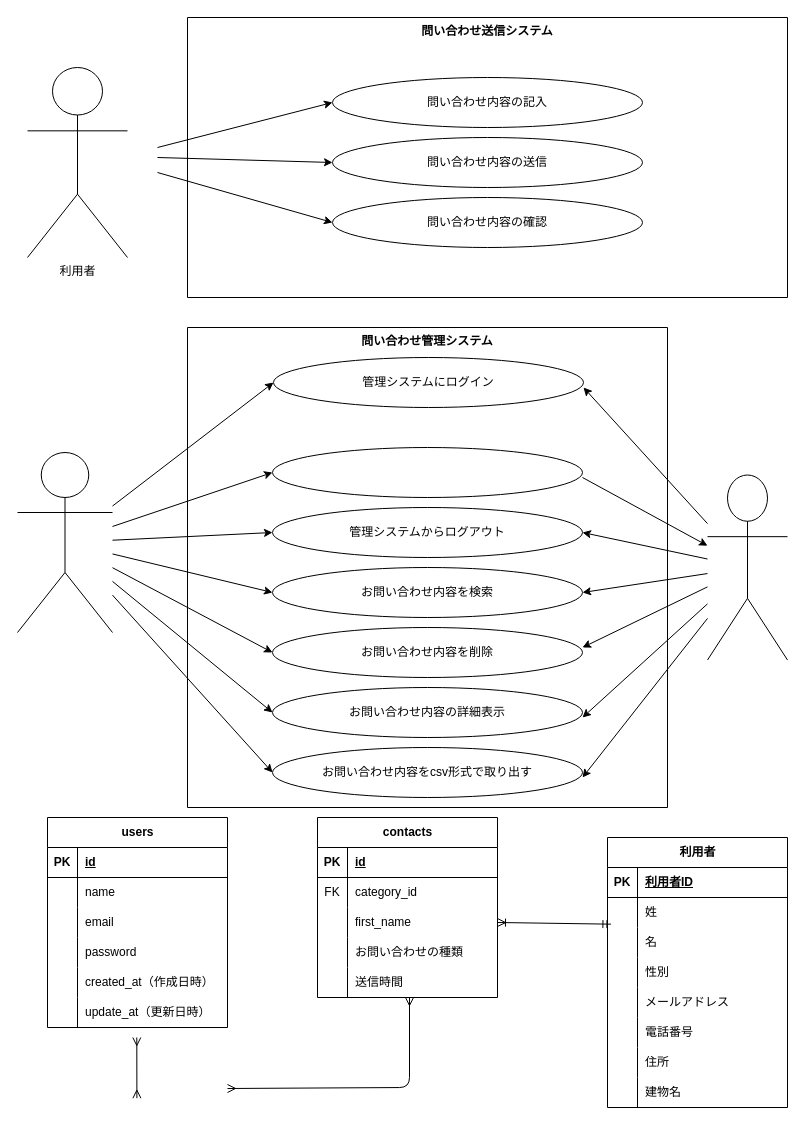
This 805x1125 diagram has some shape labels left out. The shapes that lost their labels are listed below. From the top down, each one's centre as x and y in pixels, then its label:
At [427,472]: "新規ユーザーの作成・登録".
At [64,542]: "管理者".
At [747,567]: "新規管理者".
